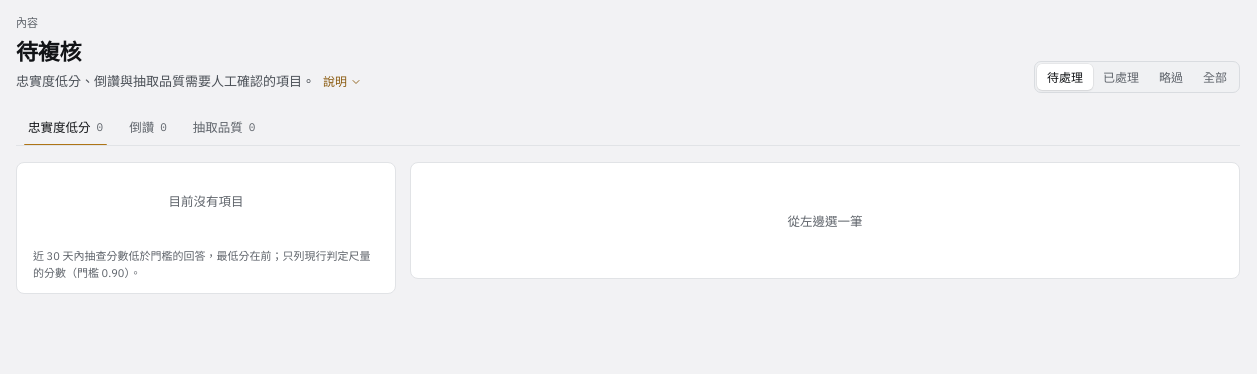
管理員看到待複核頁首與佇列；判定尺取不到（500）也照常；判定尺只取一次、不打 /api/progress
This screenshot has width=1257, height=374.
Check: the text "目前沒有項目" is shown, box x1=168 y1=193 x2=244 y2=209
Check: the heading "待複核" is shown, box x1=16 y1=37 x2=81 y2=66
Step 1. Click the button "說明" → {"x": 342, "y": 82}, box x1=323 y1=72 x2=362 y2=91
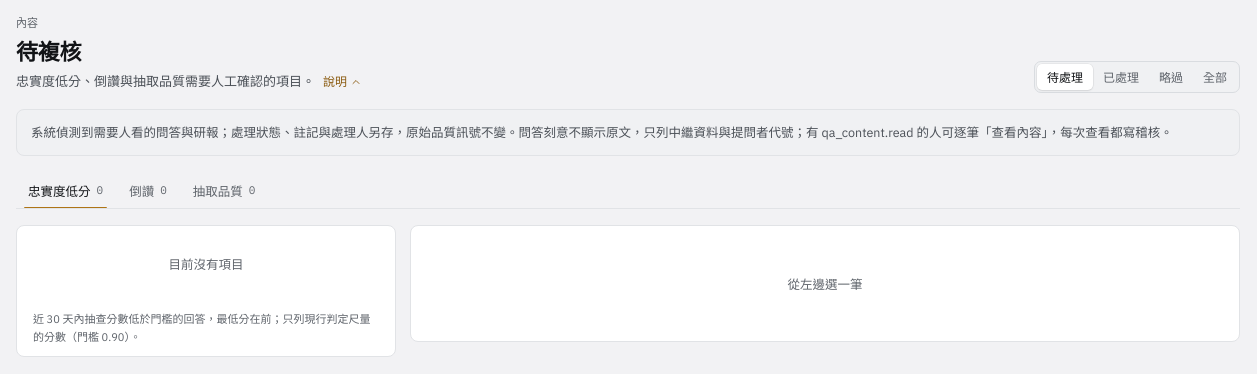
Check: the element named "複核狀態" is shown, box x1=1034 y1=61 x2=1240 y2=93
Check: the text "處理狀態、註記與處理人另存，原始品質訊號不變" is shown, box x1=31 y1=124 x2=1173 y2=140
